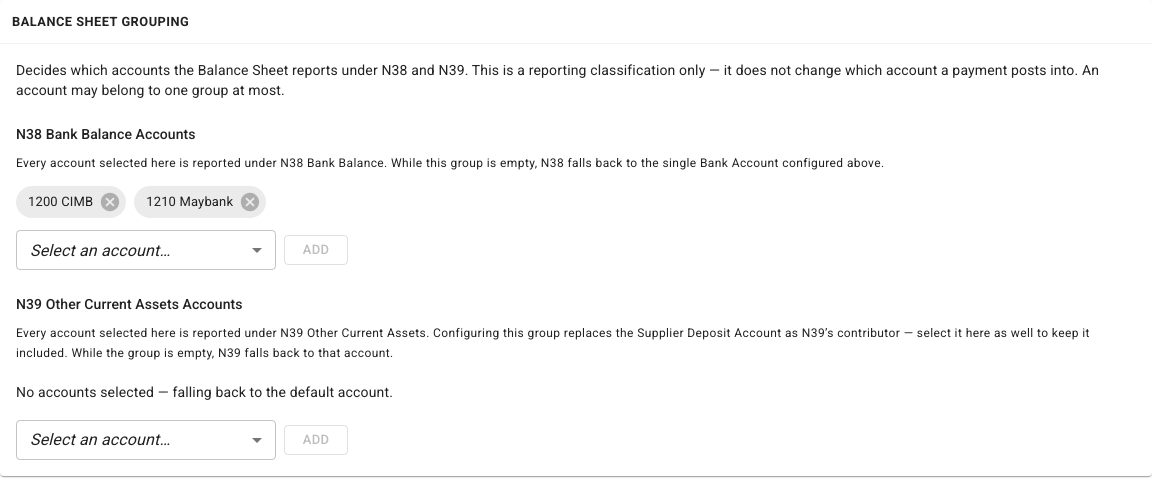
Test: BalanceSheetGroupsSection — removals › removing a chip drops it from the group and reports dirty
Click the icon with test id "bsg-remove-cimb": (110,202) [99,191,121,213]
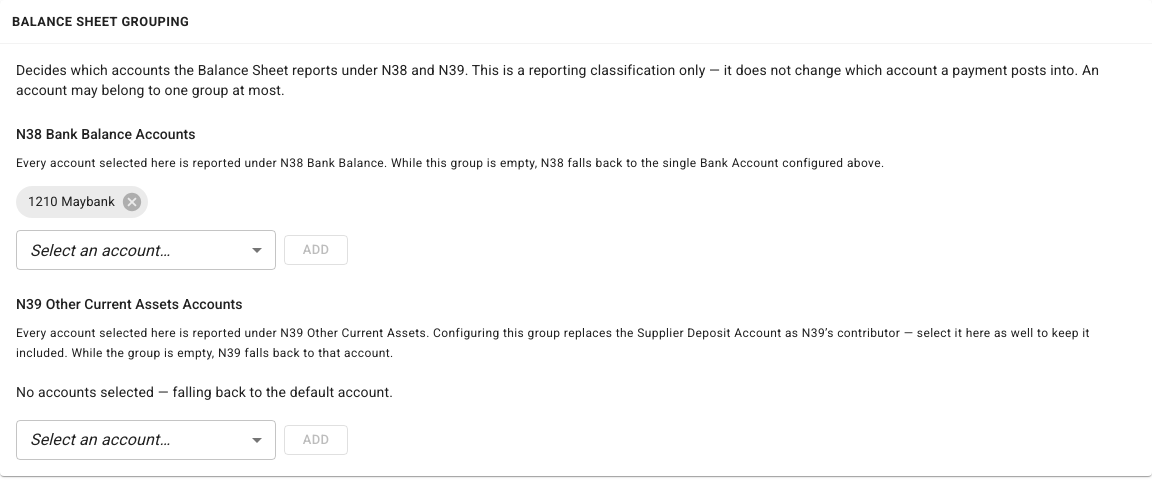
Expected: the button with test id "bsg-chip-maybank" is shown, [16,186,148,218]
Expected: the button with test id "bsg-chip-cimb" is gone
